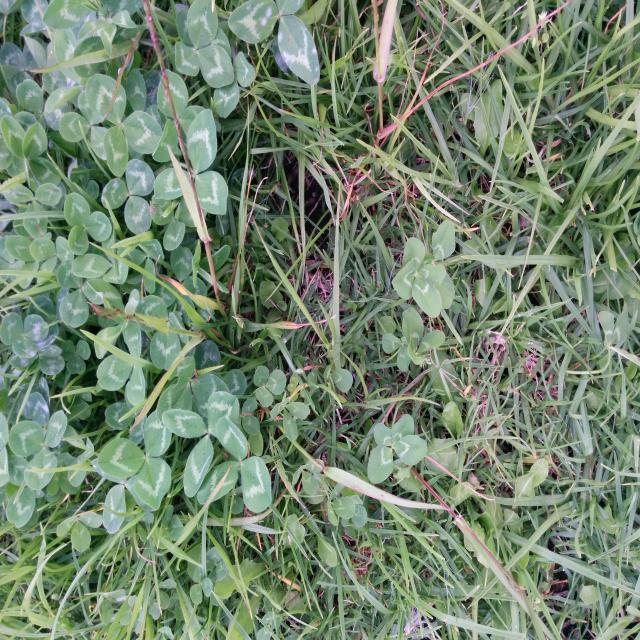Four Leaf Clover: (392, 237, 446, 318), (367, 413, 427, 482)
